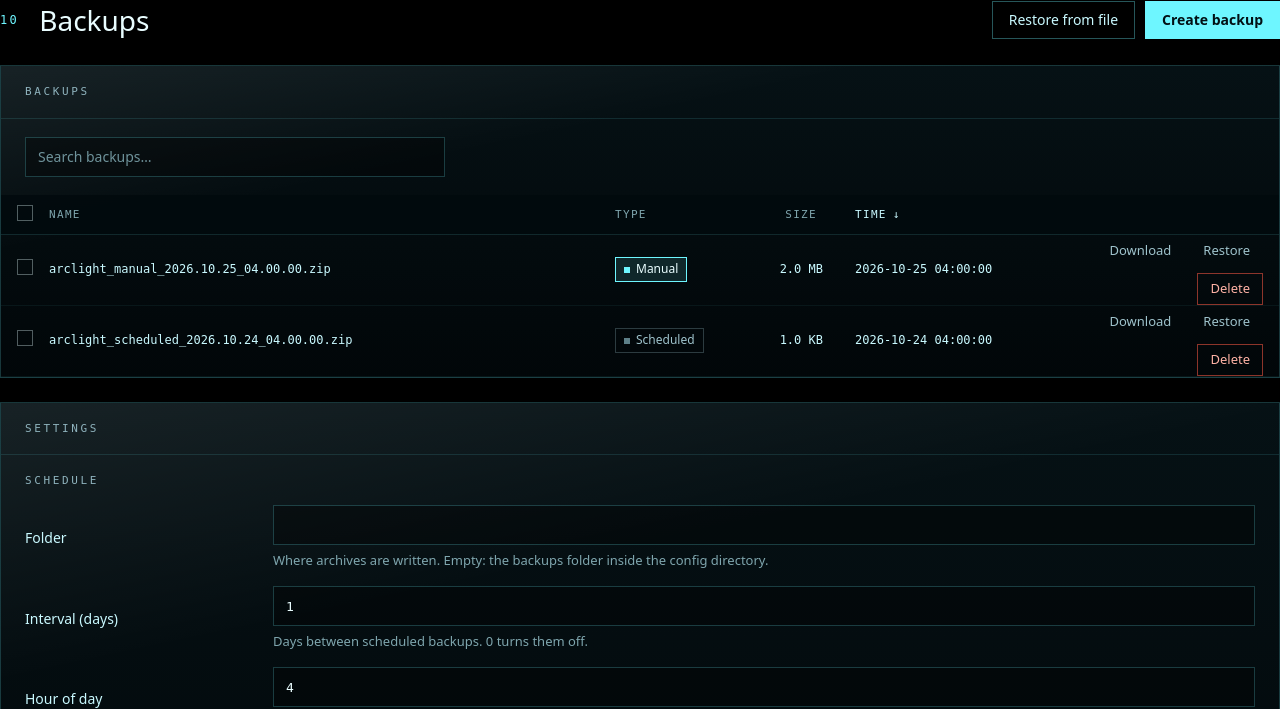
Test: System → Backups › deletes a backup after confirmation
Click the button "Delete" in the row of "1.0 KB": (1230, 360) [1198,344,1263,376]
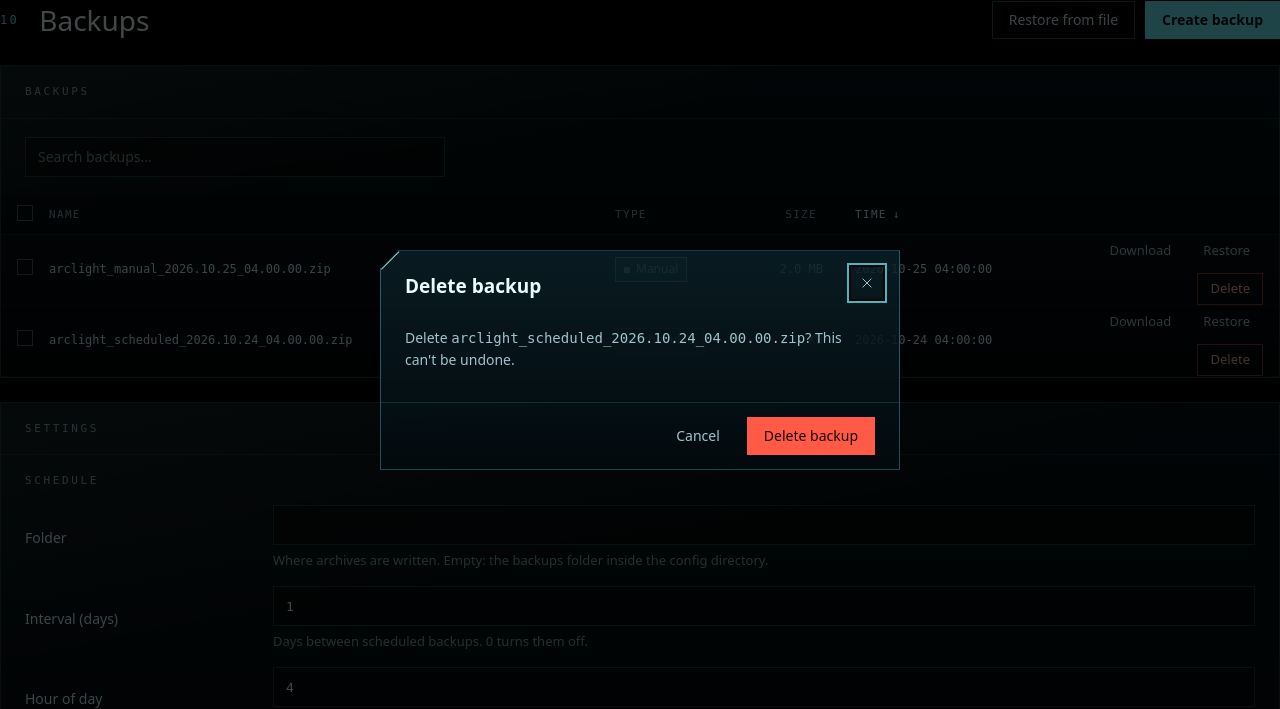
Click the button "Delete backup": (811, 436) [747,417,875,455]
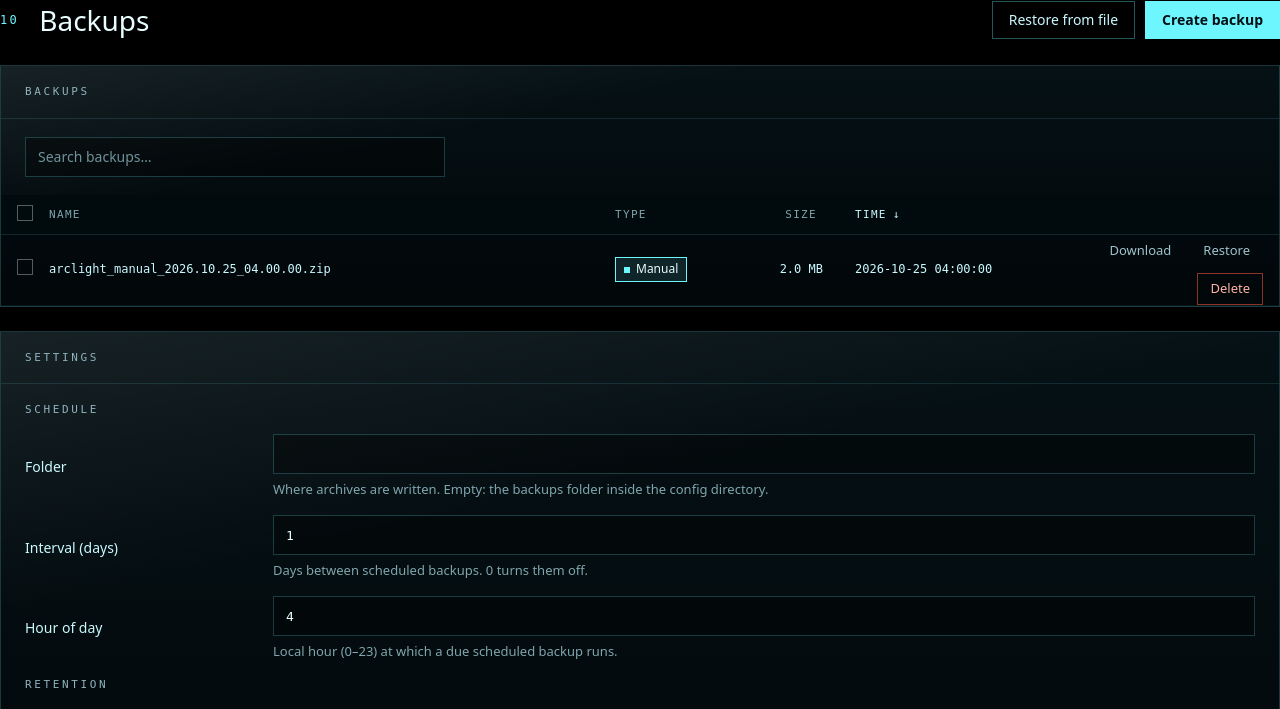
Expected: the text "arclight_scheduled_2026.10.24_04.00.00.zip" is gone
